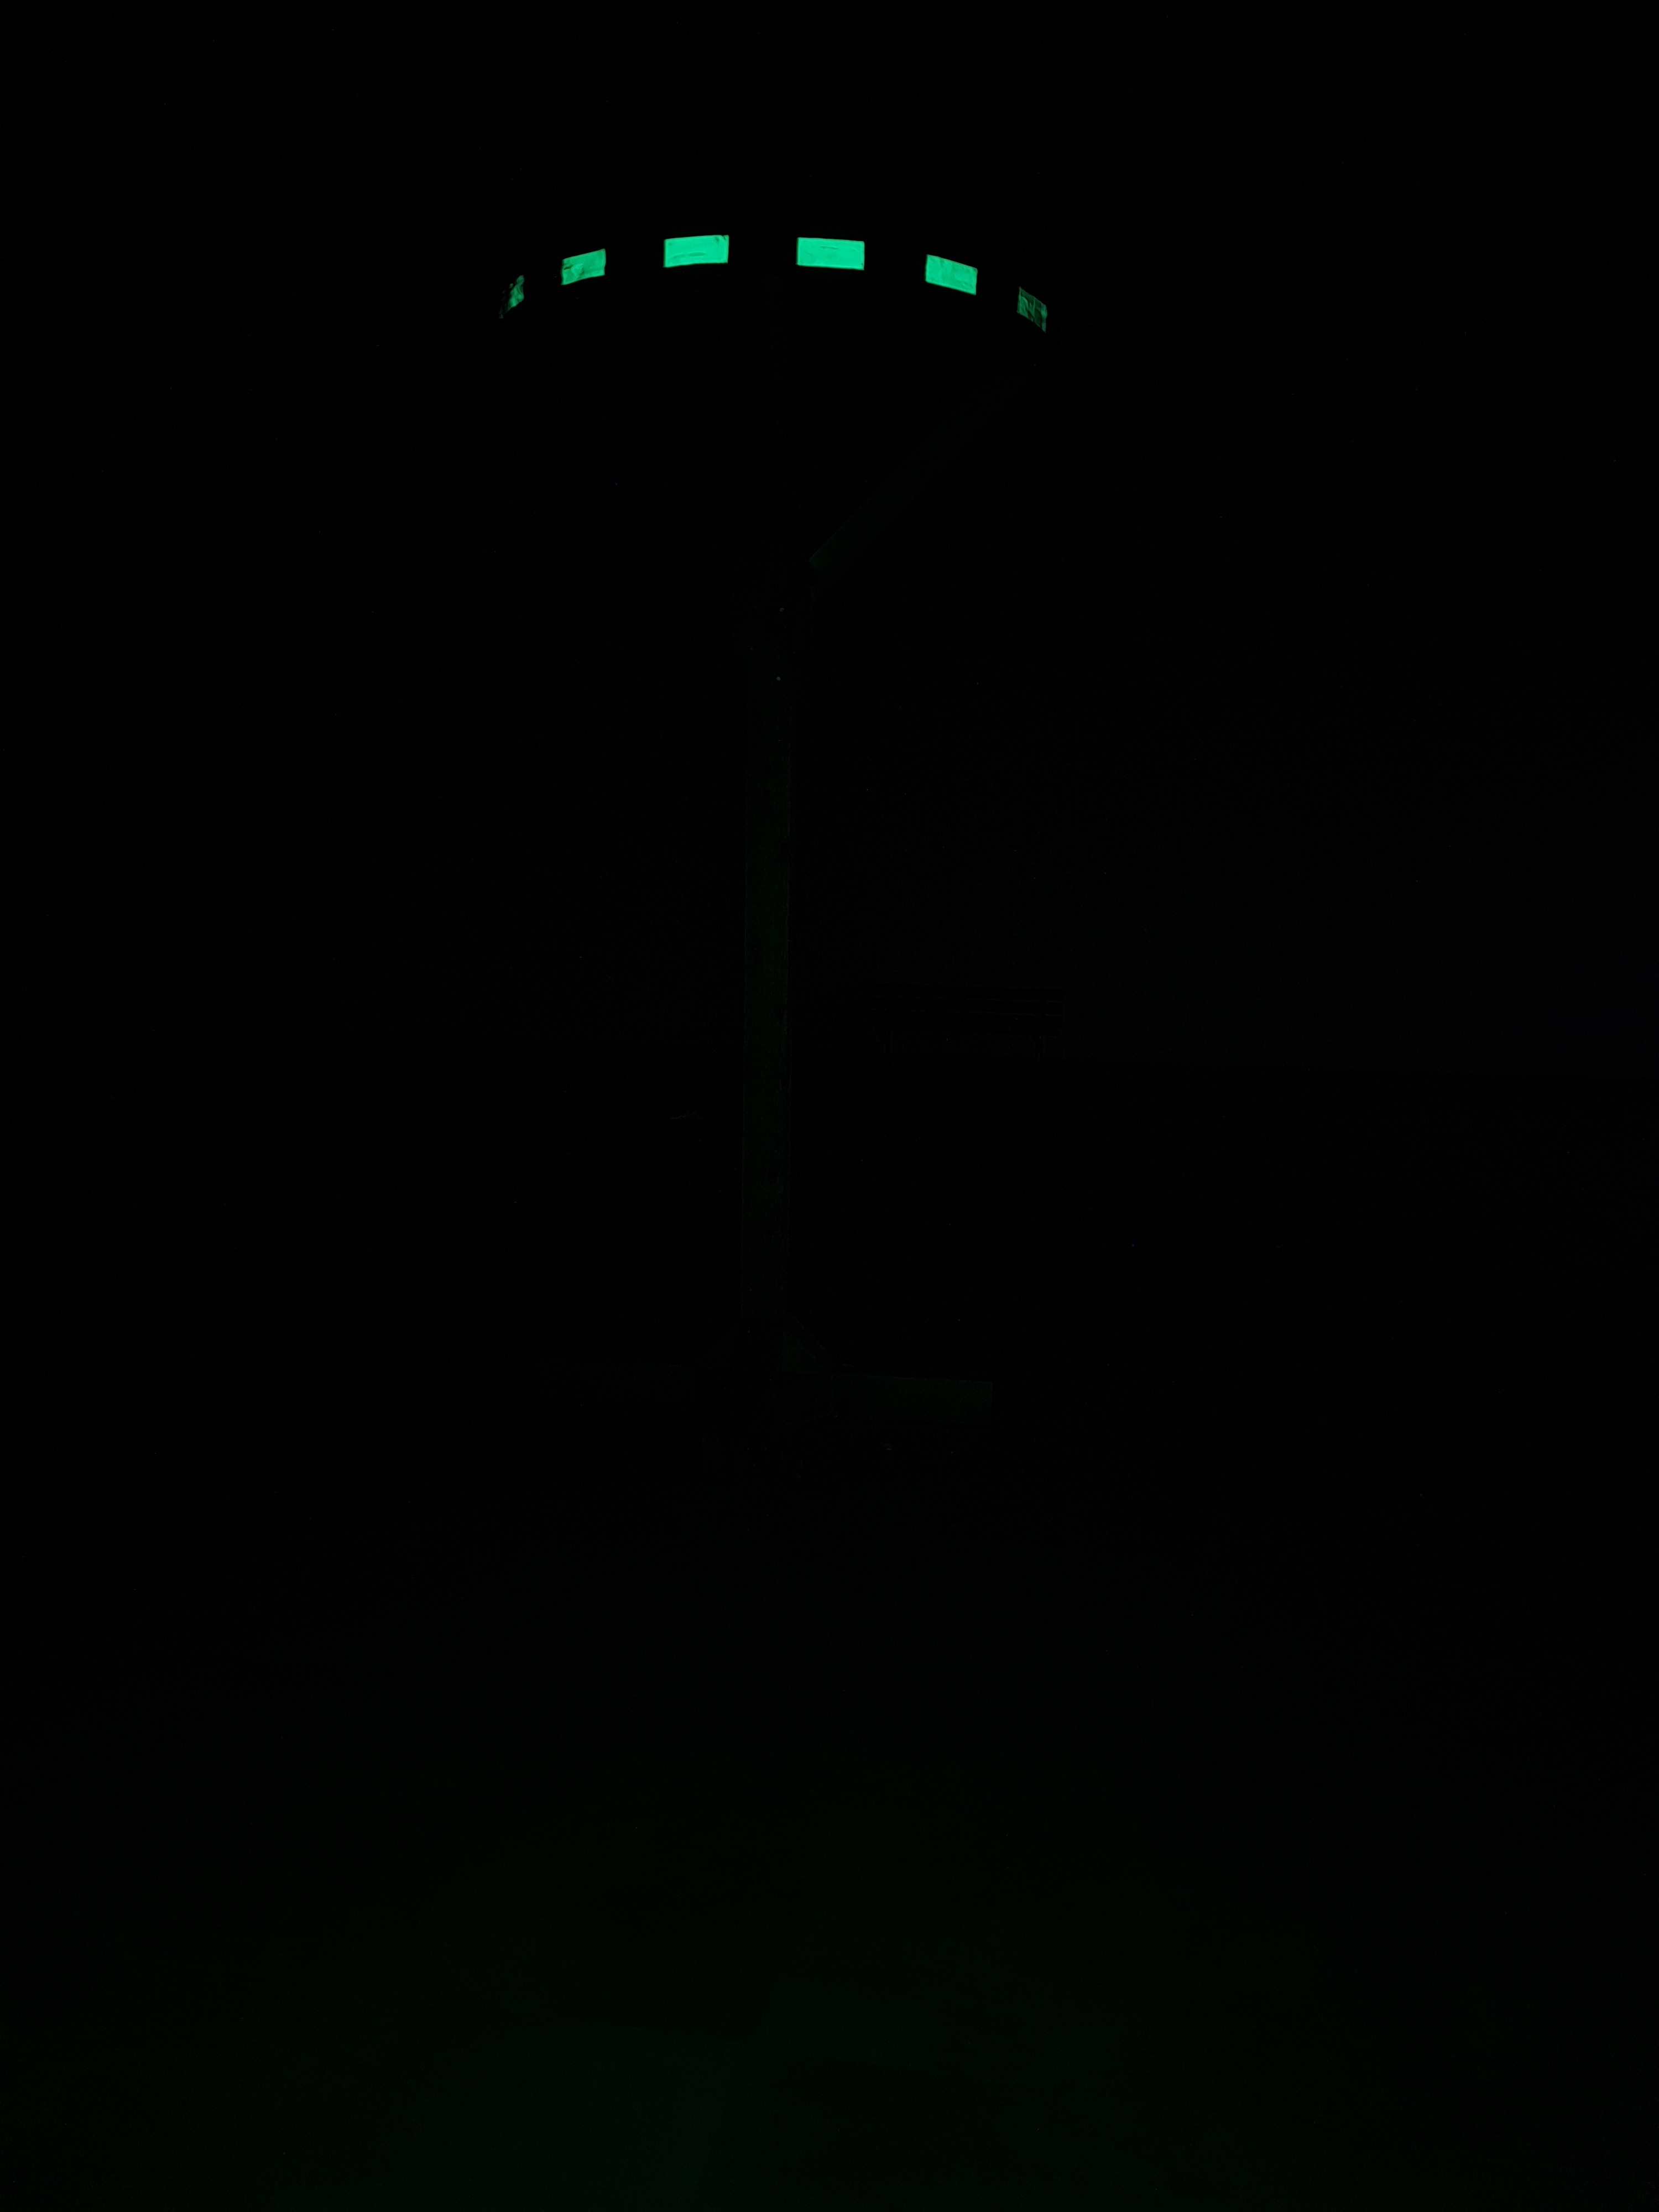hoop: (467, 226, 1077, 359)
